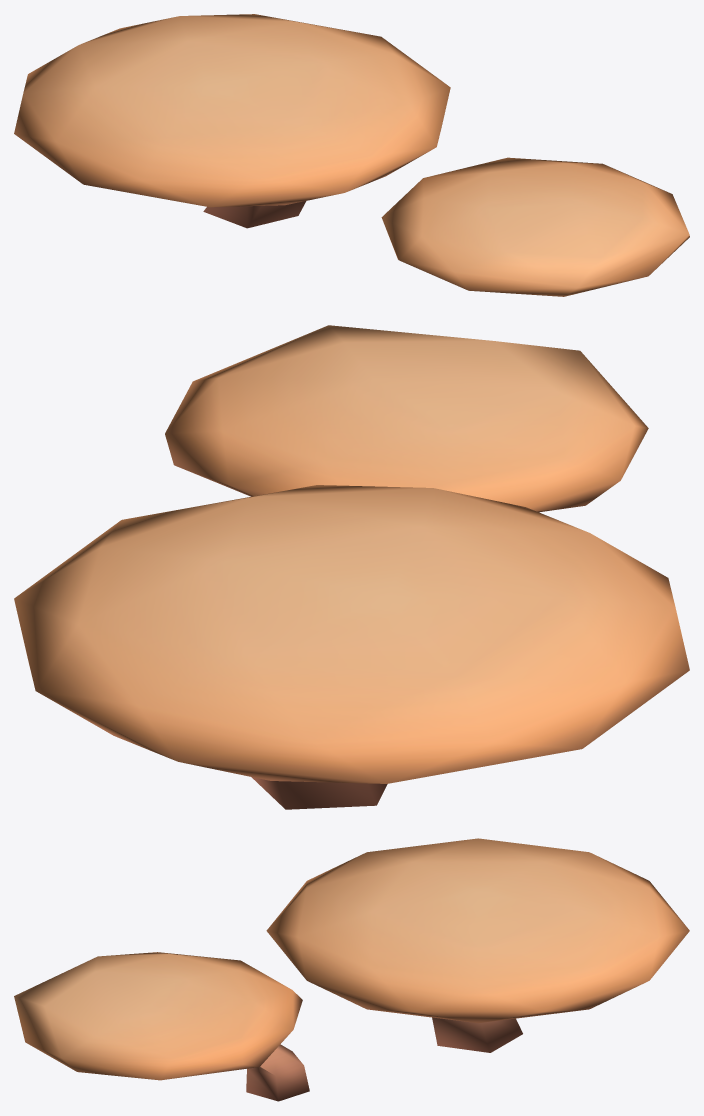
The model's file is mushroom_sphere_2.obj.
The picture shows the model from 3 angles, top to bottom: view 1: azimuth 30°, elevation 25°; view 2: azimuth 150°, elevation 25°; view 3: azimuth 270°, elevation 25°; orthographic projection. The views are drawn at different scales.
Parts seen in each view (by area): view 1: mushroom_sphere_2; view 2: mushroom_sphere_2; view 3: mushroom_sphere_2.
Boxes of the visible parts, bbox=[...] form: mushroom_sphere_2: bbox=[14, 14, 689, 296]; mushroom_sphere_2: bbox=[14, 325, 689, 809]; mushroom_sphere_2: bbox=[14, 838, 689, 1101].
Size of the model in its own units: 10.44 by 2.84 by 14.25.
